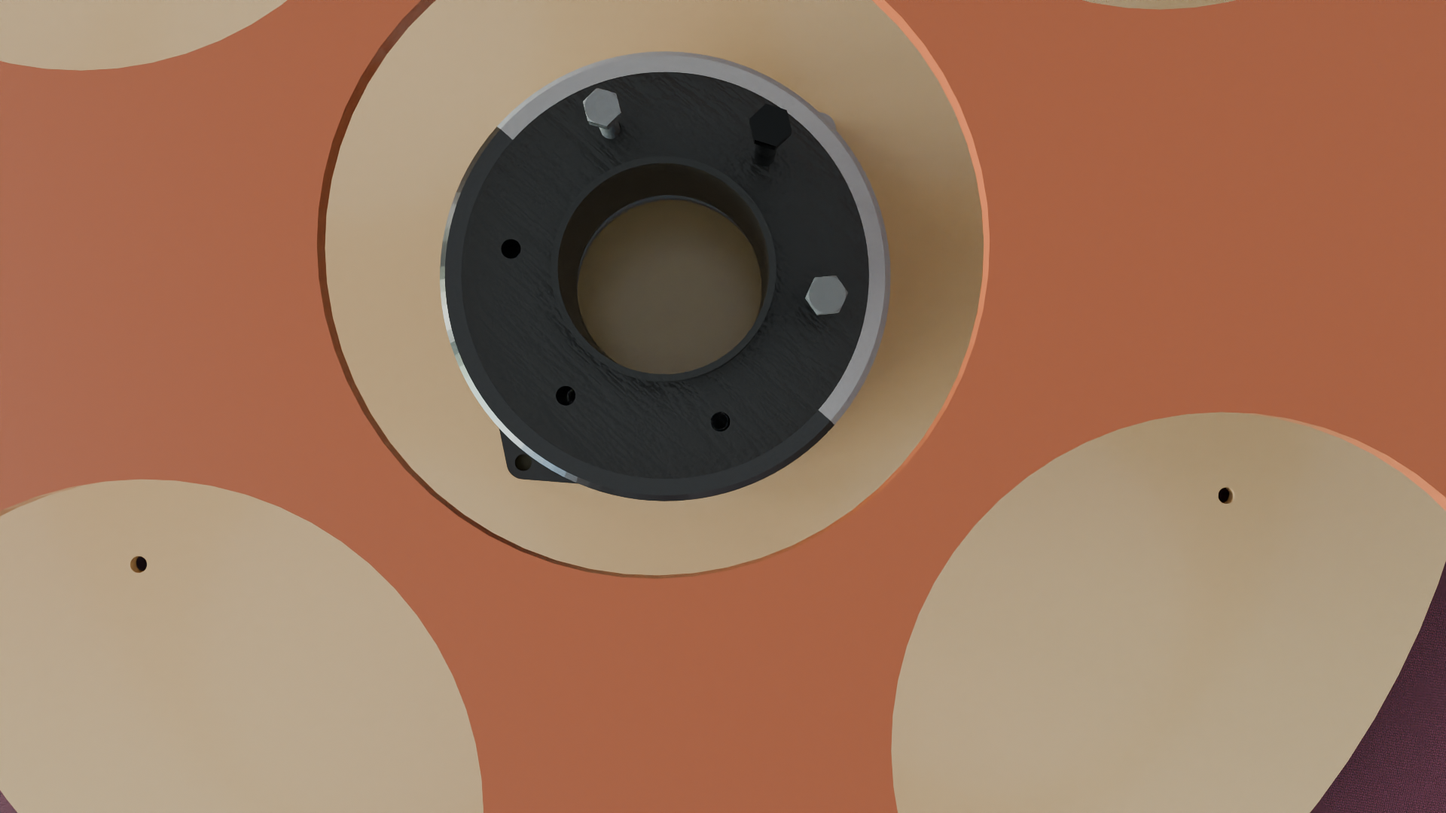bolt: (750, 104, 792, 146), (807, 276, 848, 314), (583, 88, 621, 126)
